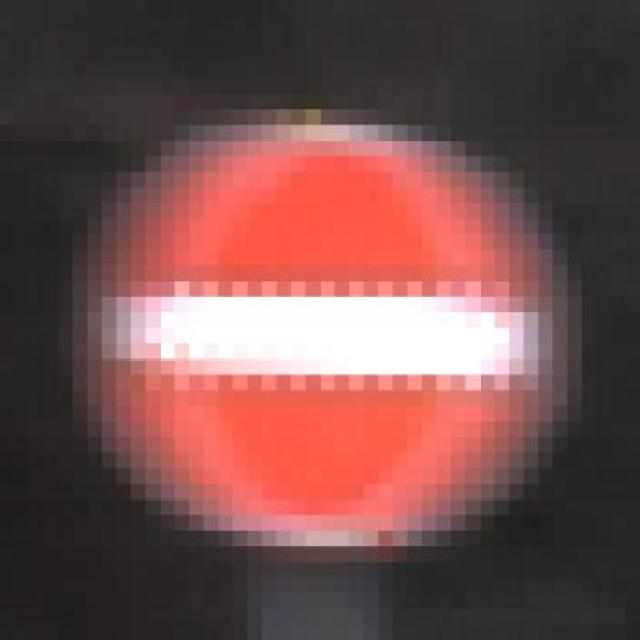No Entry: (44, 94, 582, 546)
